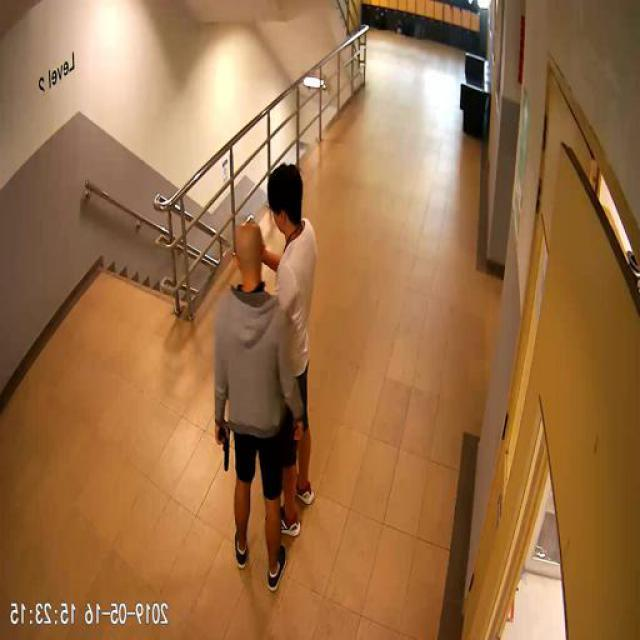Gun: (218, 424, 232, 470)
